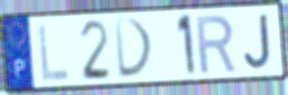1: (175, 12, 198, 79)
2: (78, 19, 112, 82)
D: (113, 17, 156, 80)
J: (242, 11, 273, 71)
L: (36, 21, 71, 84)
R: (194, 14, 238, 76)
